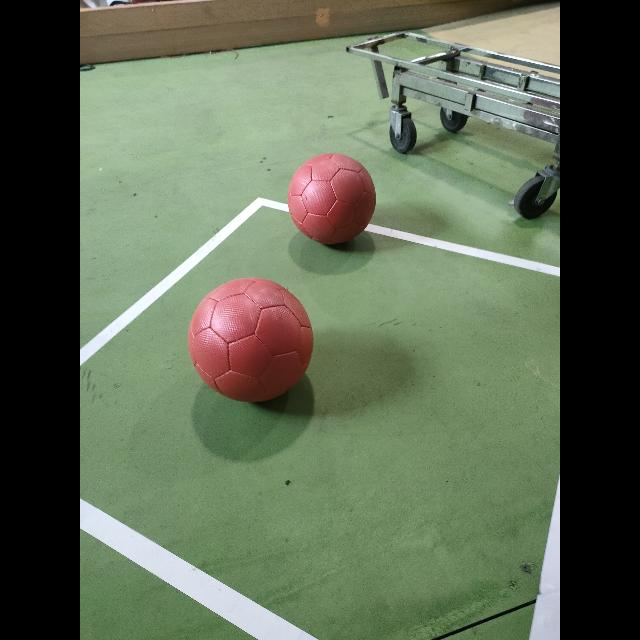R: (188, 278, 314, 402), (288, 153, 376, 244)
